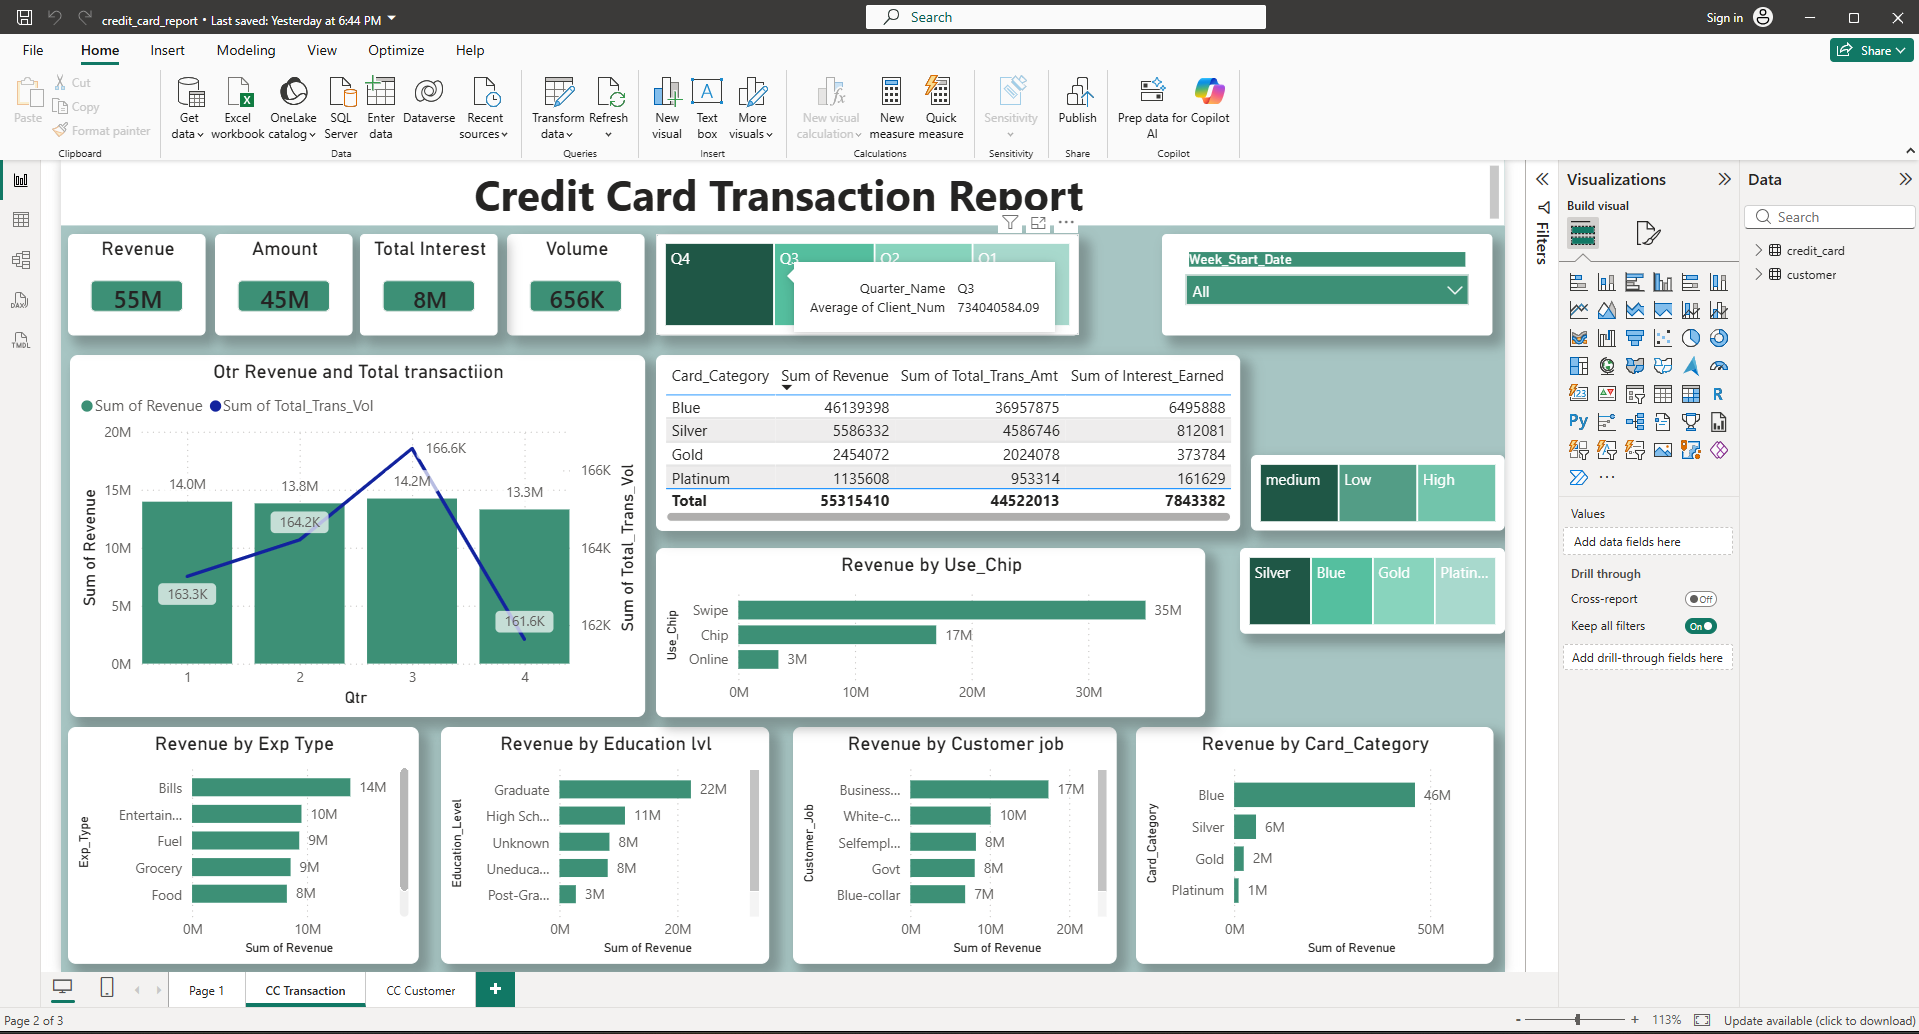

The page's visual inventory and layout, read from the dashboard file:
{"tool":"powerbi","page":{"name":"CC Transaction","canvas":[1280,720],"ordinal":1},"visuals":[{"type":"textbox","box":[0,0,1280.4,57.6],"z":0},{"type":"lineStackedColumnComboChart","title":"Otr Revenue and Total transactiion","fields":{"Category":["credit_card.Qtr"],"Y":["Sum(credit_card.Revenue)"],"Y2":["Sum(credit_card.Total_Trans_Vol)"]},"box":[8,172.9,509.9,321],"z":1000},{"type":"barChart","title":"Revenue by Exp Type","fields":{"Y":["Sum(credit_card.Revenue)"],"Category":["credit_card.Exp_Type"]},"box":[6.2,502.8,311.2,210.1],"z":2000},{"type":"barChart","title":"Revenue by Education lvl","fields":{"Y":["Sum(credit_card.Revenue)"],"Category":["customer.Education_Level"]},"box":[336.9,502.8,290.8,210.1],"z":3000},{"type":"barChart","title":"Revenue by Customer job","fields":{"Y":["Sum(credit_card.Revenue)"],"Category":["customer.Customer_Job"]},"box":[649.1,502.8,287.3,210.1],"z":4000},{"type":"barChart","title":"Revenue by Card_Category","fields":{"Y":["Sum(credit_card.Revenue)"],"Category":["credit_card.Card_Category"]},"box":[953.2,502.8,316.6,210.1],"z":5000},{"type":"barChart","title":"Revenue by Use_Chip","fields":{"Y":["Sum(credit_card.Revenue)"],"Category":["credit_card.Use_Chip"]},"box":[527.4,344.4,487.1,149.8],"z":6000},{"type":"tableEx","fields":{"Values":["credit_card.Card_Category","Sum(credit_card.Revenue)","Sum(credit_card.Total_Trans_Amt)","Sum(credit_card.Interest_Earned)"]},"box":[527.6,172.9,517.8,156.1],"z":7000},{"type":"cardVisual","title":"Revenue","fields":{"Data":["Sum(credit_card.Revenue)"]},"box":[6.2,65.6,122.4,89.6],"z":8000},{"type":"cardVisual","title":"Amount","fields":{"Data":["Sum(credit_card.Total_Trans_Amt)"]},"box":[136.6,65.6,122.4,89.6],"z":9000},{"type":"cardVisual","title":"Volume","fields":{"Data":["Sum(credit_card.Total_Trans_Vol)"]},"box":[395.5,65.6,122.4,89.6],"z":10000},{"type":"cardVisual","title":"Total Interest","fields":{"Data":["Sum(credit_card.Interest_Earned)"]},"box":[265.1,65.6,122.4,89.6],"z":11000},{"type":"slicer","fields":{"Values":["credit_card.Week_Start_Date"]},"box":[976.3,65.6,293.5,89.6],"z":12000},{"type":"treemap","fields":{"Group":["credit_card.Quarter_Name"],"Values":["Avg(credit_card.Client_Num)"]},"box":[527.6,65.6,375.1,89.6],"z":13000},{"type":"treemap","fields":{"Group":["customer.IncomeGroup"],"Values":["Avg(credit_card.Client_Num)"]},"box":[1054.9,261.9,225.1,67.3],"z":14000},{"type":"treemap","fields":{"Group":["credit_card.Card_Category"],"Values":["Avg(credit_card.Client_Num)"]},"box":[1045,344.4,235,76.2],"z":15000}]}

Visuals, with their boxes on the page's 1280x720 design canvas (x1, y1, x2, y2). These are canvas units, not pixel positions in the 1919x1034 screenshot, which may show the page scaled, cropped or inside an application window:
textbox: bbox(0, 0, 1280, 58)
"Otr Revenue and Total transactiion" lineStackedColumnComboChart: bbox(8, 173, 518, 494)
"Revenue by Exp Type" barChart: bbox(6, 503, 317, 713)
"Revenue by Education lvl" barChart: bbox(337, 503, 628, 713)
"Revenue by Customer job" barChart: bbox(649, 503, 936, 713)
"Revenue by Card_Category" barChart: bbox(953, 503, 1270, 713)
"Revenue by Use_Chip" barChart: bbox(527, 344, 1014, 494)
tableEx - credit_card.Card_Category x Sum(credit_card.Revenue): bbox(528, 173, 1045, 329)
"Revenue" cardVisual: bbox(6, 66, 129, 155)
"Amount" cardVisual: bbox(137, 66, 259, 155)
"Volume" cardVisual: bbox(396, 66, 518, 155)
"Total Interest" cardVisual: bbox(265, 66, 388, 155)
slicer - credit_card.Week_Start_Date: bbox(976, 66, 1270, 155)
treemap - credit_card.Quarter_Name x Avg(credit_card.Client_Num): bbox(528, 66, 903, 155)
treemap - customer.IncomeGroup x Avg(credit_card.Client_Num): bbox(1055, 262, 1280, 329)
treemap - credit_card.Card_Category x Avg(credit_card.Client_Num): bbox(1045, 344, 1280, 421)
